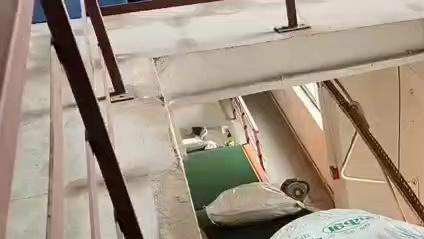box: (269, 209, 424, 239), (205, 181, 307, 225)
